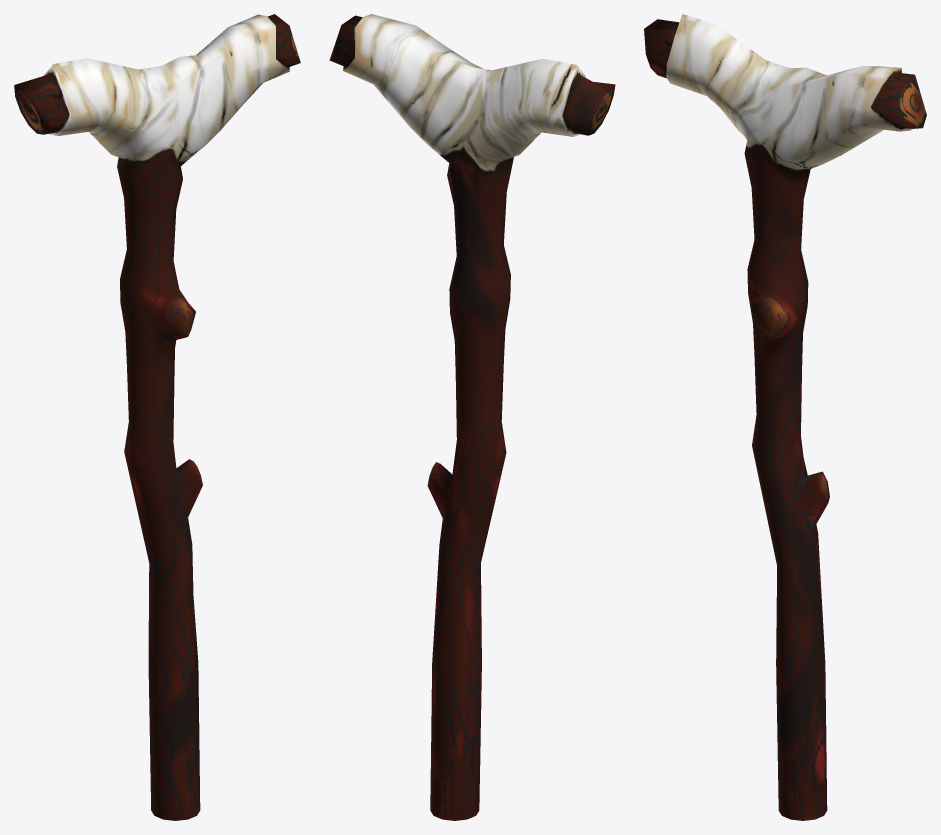
File: TT_Crutch.fbx
3 views of the same model, side by side, from view 1: azimuth 30°, elevation 25°; view 2: azimuth 150°, elevation 25°; view 3: azimuth 330°, elevation 25° (orthographic).
Parts seen in each view (by area): view 1: T_Tim_Crutch; view 2: T_Tim_Crutch; view 3: T_Tim_Crutch.
Part boxes in pixels (x1=…): T_Tim_Crutch: x1=14, y1=14, x2=300, y2=820; T_Tim_Crutch: x1=329, y1=14, x2=615, y2=820; T_Tim_Crutch: x1=644, y1=14, x2=926, y2=820.
Bounding box in the file's own units: 1.48 × 4 × 0.3818.
